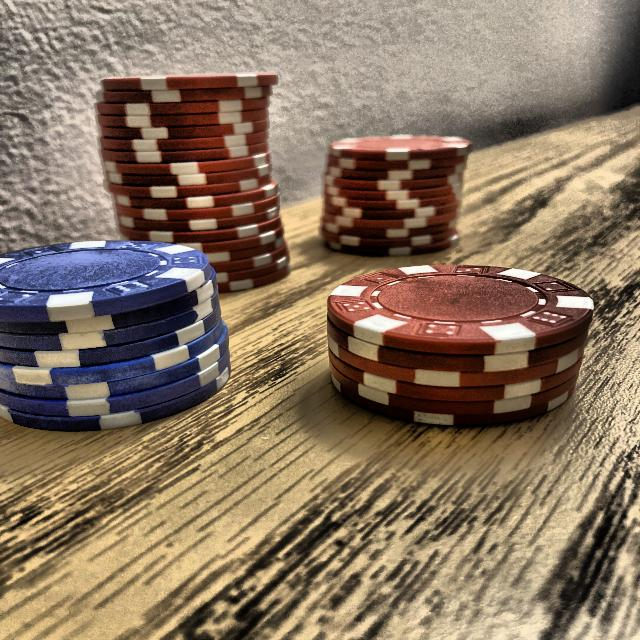Chip: (0, 209, 234, 452), (94, 50, 300, 308), (318, 262, 597, 431), (316, 111, 473, 274)
